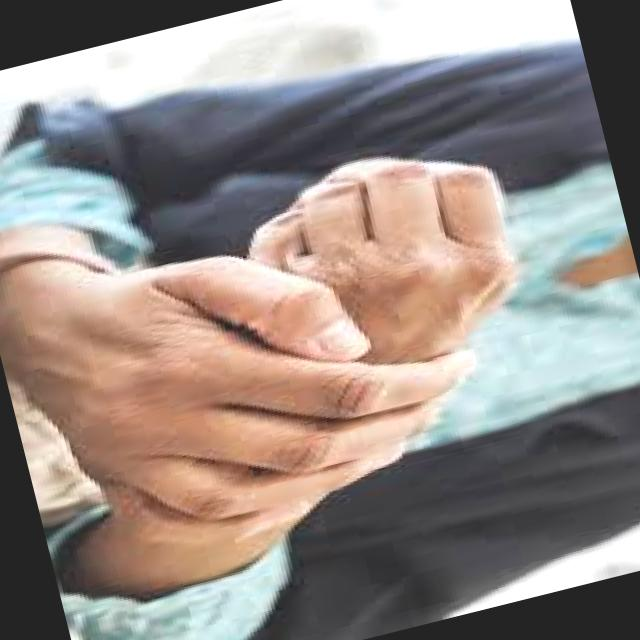Hand: (0, 196, 499, 571), (163, 123, 572, 516)
